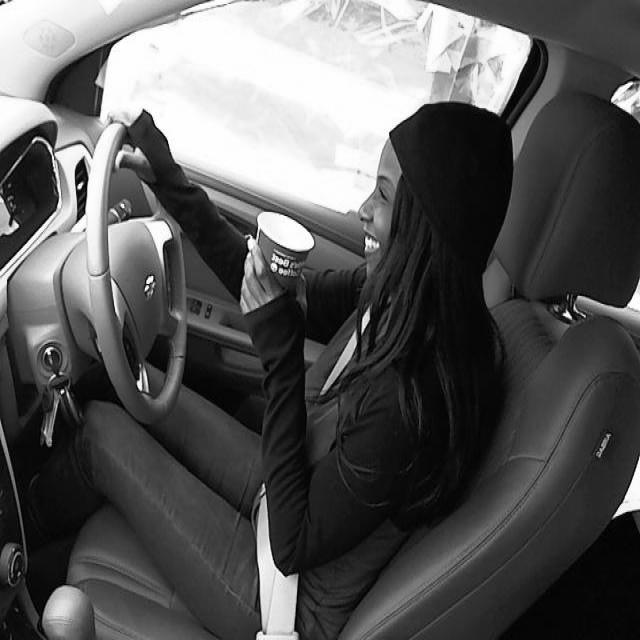drinking: (243, 208, 315, 324)
